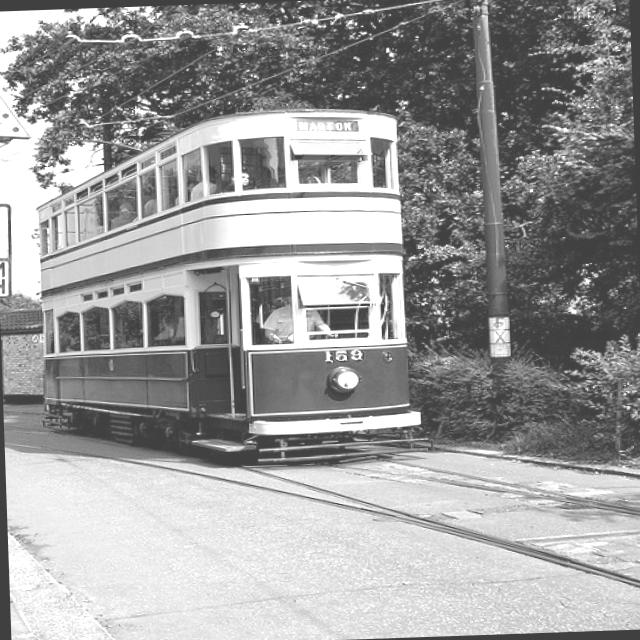Vehicle: (31, 107, 428, 478)
